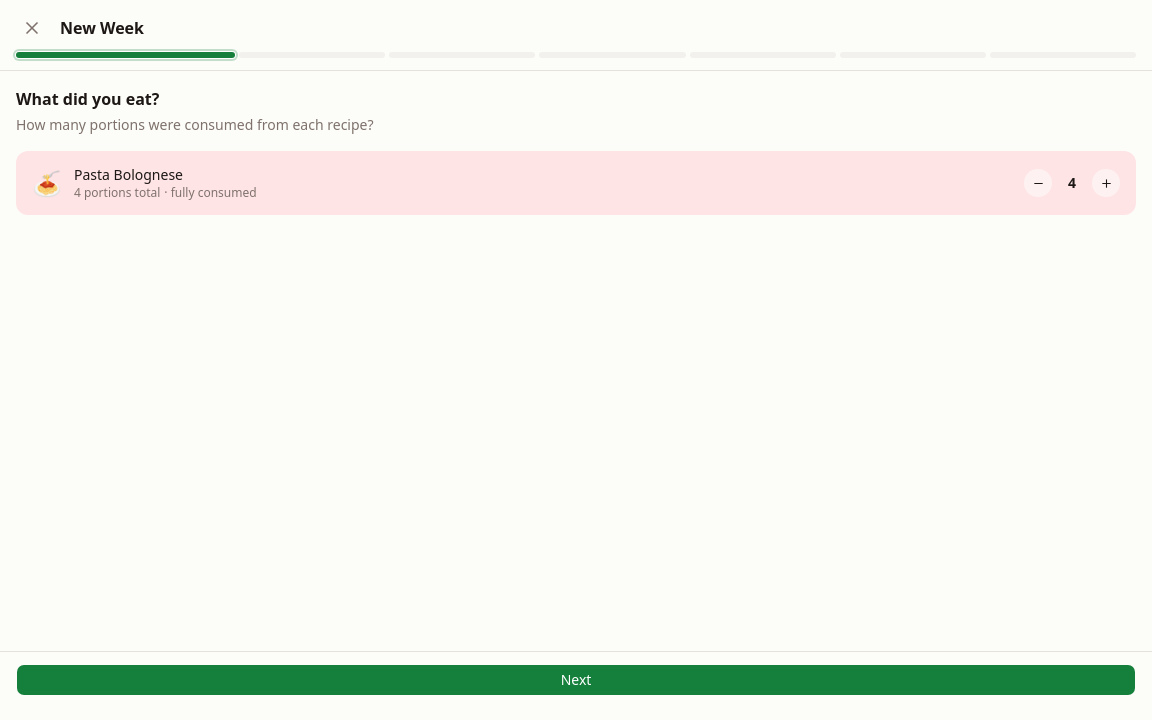
Test: StartNewWeekWizard › can navigate back from step 2 to step 1
The image size is (1152, 720).
Step 1. Click the button with test id "wizard-next" → (576, 680), box top-left (16, 664), bottom-right (1136, 696)
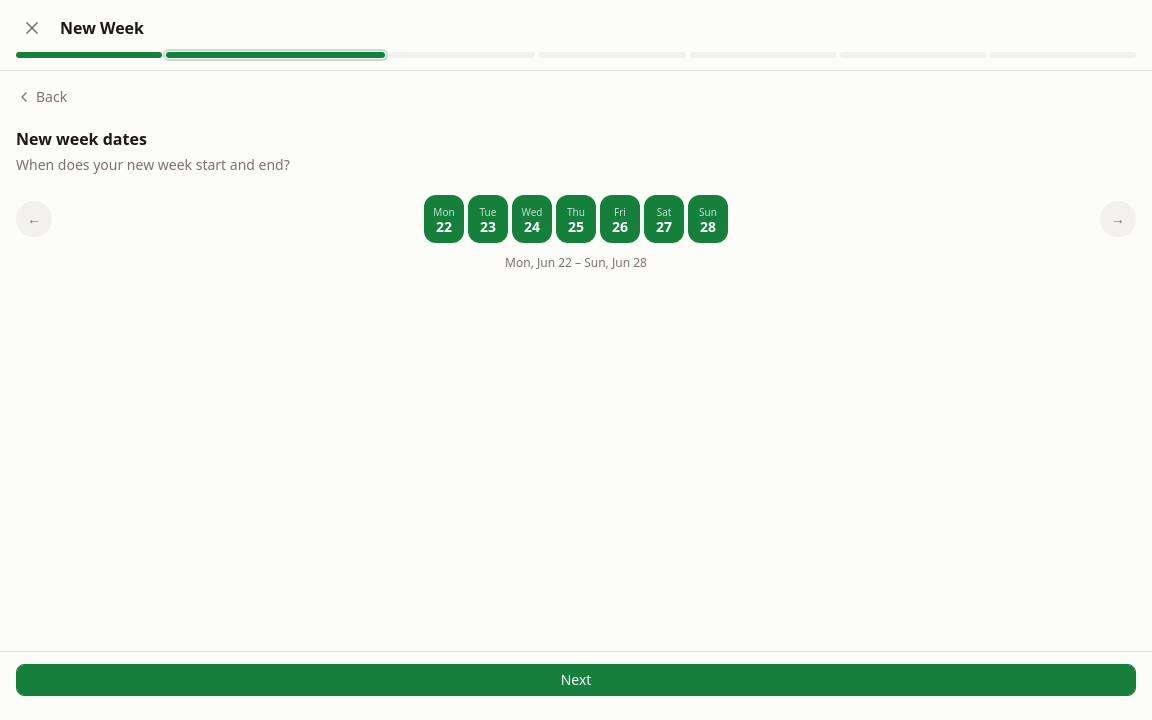
Step 2. Click the button "Back" → (42, 97), box top-left (16, 87), bottom-right (67, 107)
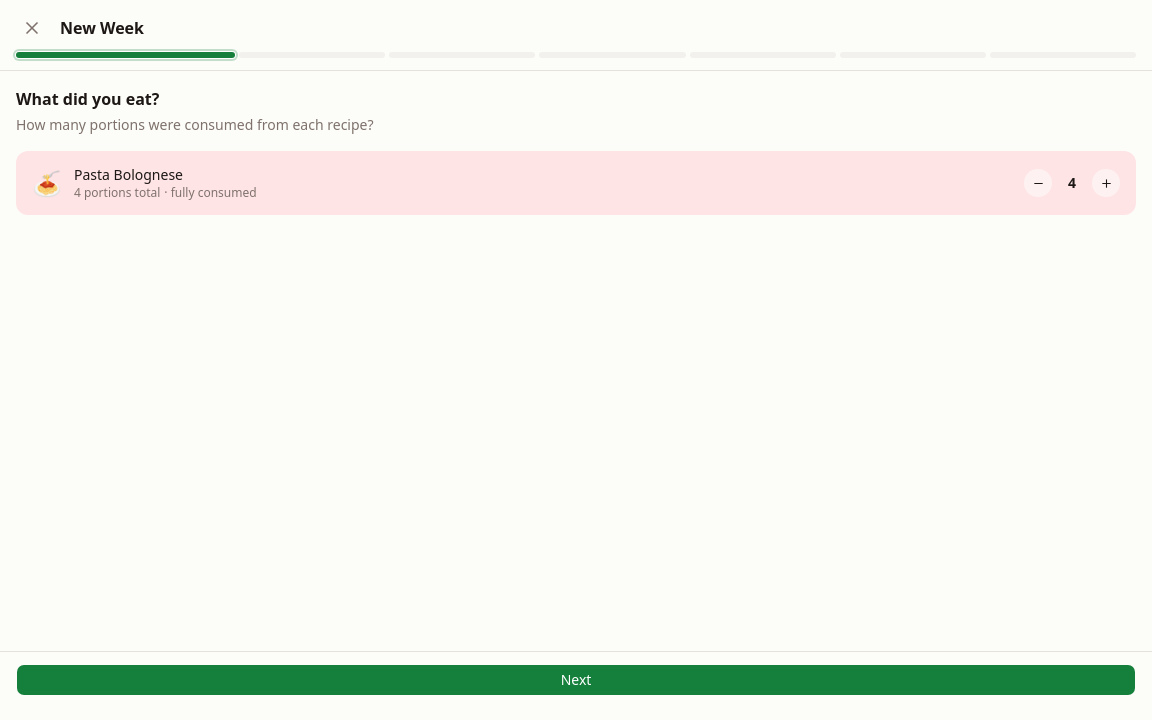
Expected: the heading "What did you eat?" is shown, top-left (16, 88), bottom-right (159, 110)
